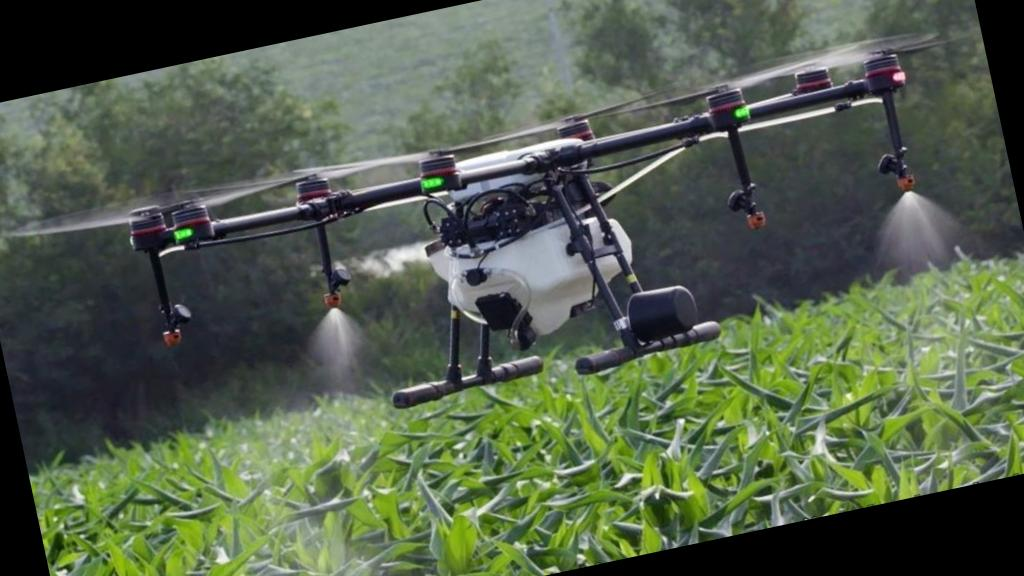drone: (0, 0, 992, 466)
